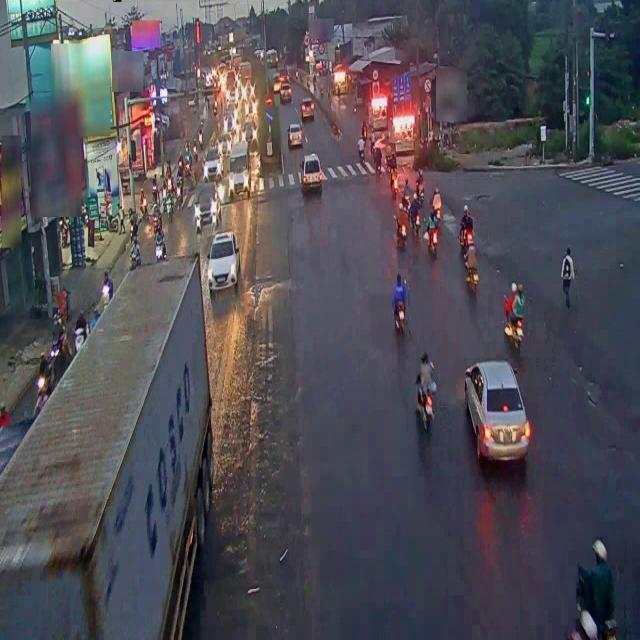car: (458, 354, 542, 488), (298, 146, 326, 205)
motorcycle: (450, 361, 480, 474), (518, 287, 552, 380), (385, 250, 414, 354), (464, 244, 484, 313), (456, 198, 476, 262), (424, 204, 440, 267), (424, 222, 440, 278)
truck: (0, 220, 219, 640)
